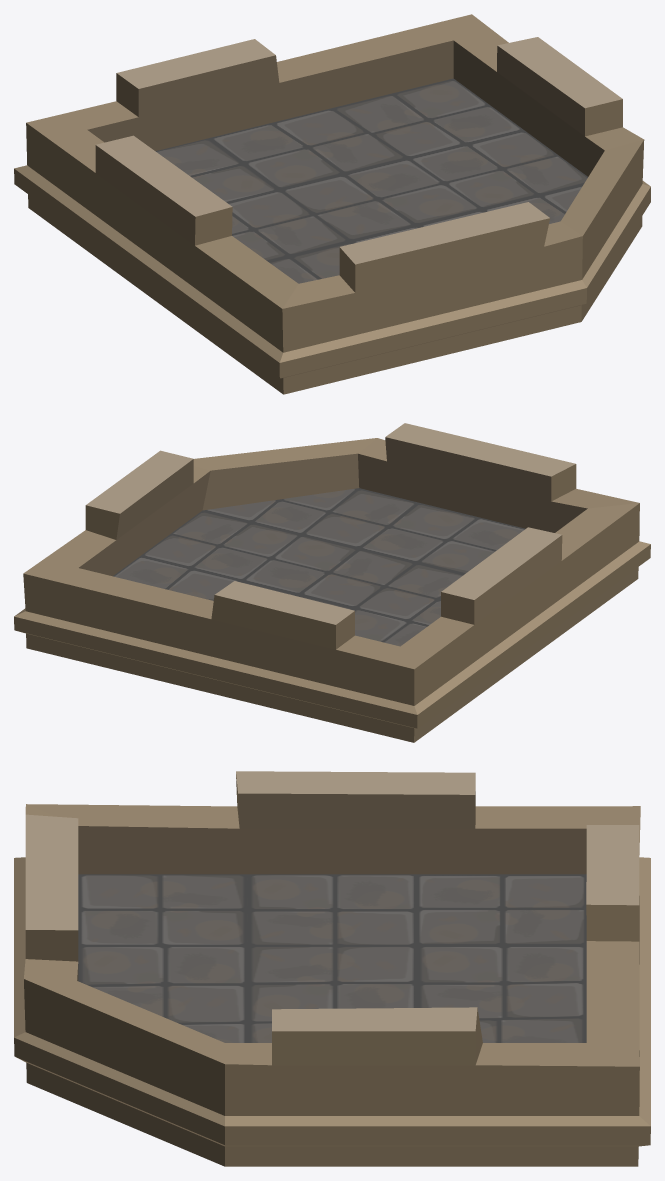
Rendered from RoofTop_B06.fbx.
3 renders of one model, top to bottom at view 1: azimuth 30°, elevation 25°; view 2: azimuth 150°, elevation 25°; view 3: azimuth 270°, elevation 25°, orthographic. The views are drawn at different scales.
Visible parts, largest first — view 1: RoofTop_B06; view 2: RoofTop_B06; view 3: RoofTop_B06.
Boxes of the visible parts, left/top/right/bottom form: RoofTop_B06: left=14, top=14, right=650, bottom=394; RoofTop_B06: left=14, top=423, right=650, bottom=742; RoofTop_B06: left=14, top=771, right=650, bottom=1166.
Size of the model in its own units: 638 by 152 by 639.
